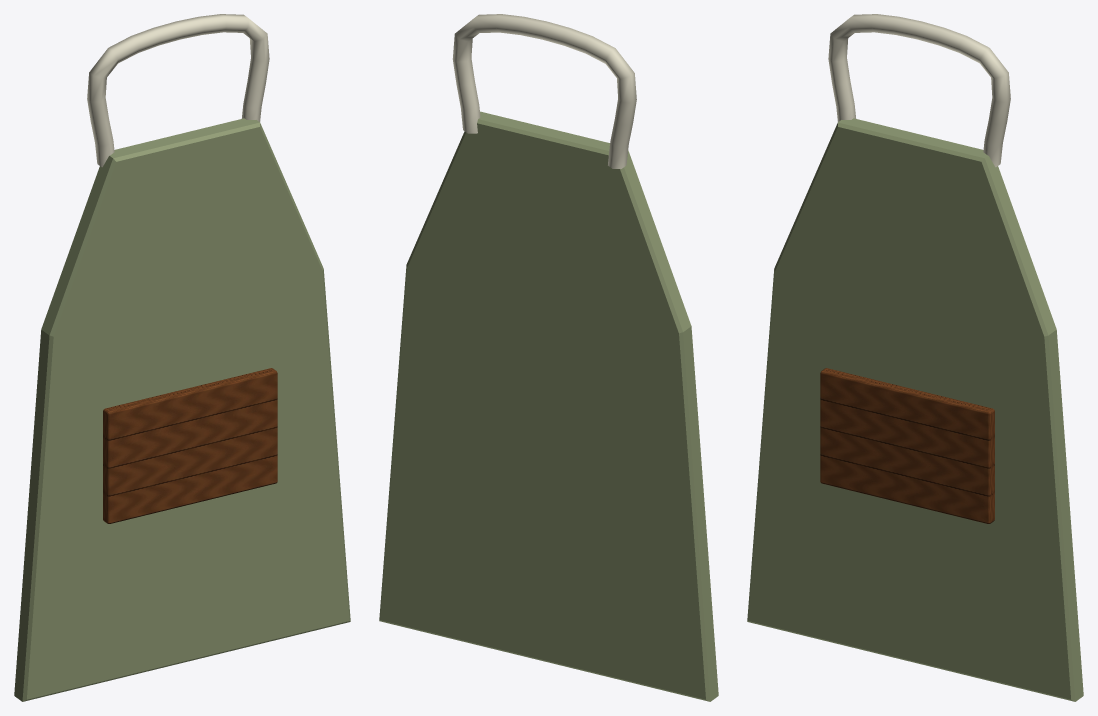
The model's file is primitive-crafting-workshop-hide-apron-18cd672a__21564.glb.
The picture shows the model from 3 angles, left to right: view 1: azimuth 30°, elevation 25°; view 2: azimuth 150°, elevation 25°; view 3: azimuth 330°, elevation 25°; orthographic projection.
Visible parts, largest first — view 1: hide-apron; view 2: hide-apron; view 3: hide-apron.
Part boxes in pixels (x1=…): hide-apron: x1=14, y1=14, x2=350, y2=701; hide-apron: x1=379, y1=14, x2=718, y2=701; hide-apron: x1=747, y1=14, x2=1083, y2=701.
Bounding box in the file's own units: 0.3662 × 0.6744 × 0.038.
3 materials, 1 textured.
